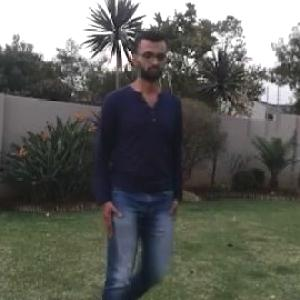follow: (92, 41, 160, 299)
